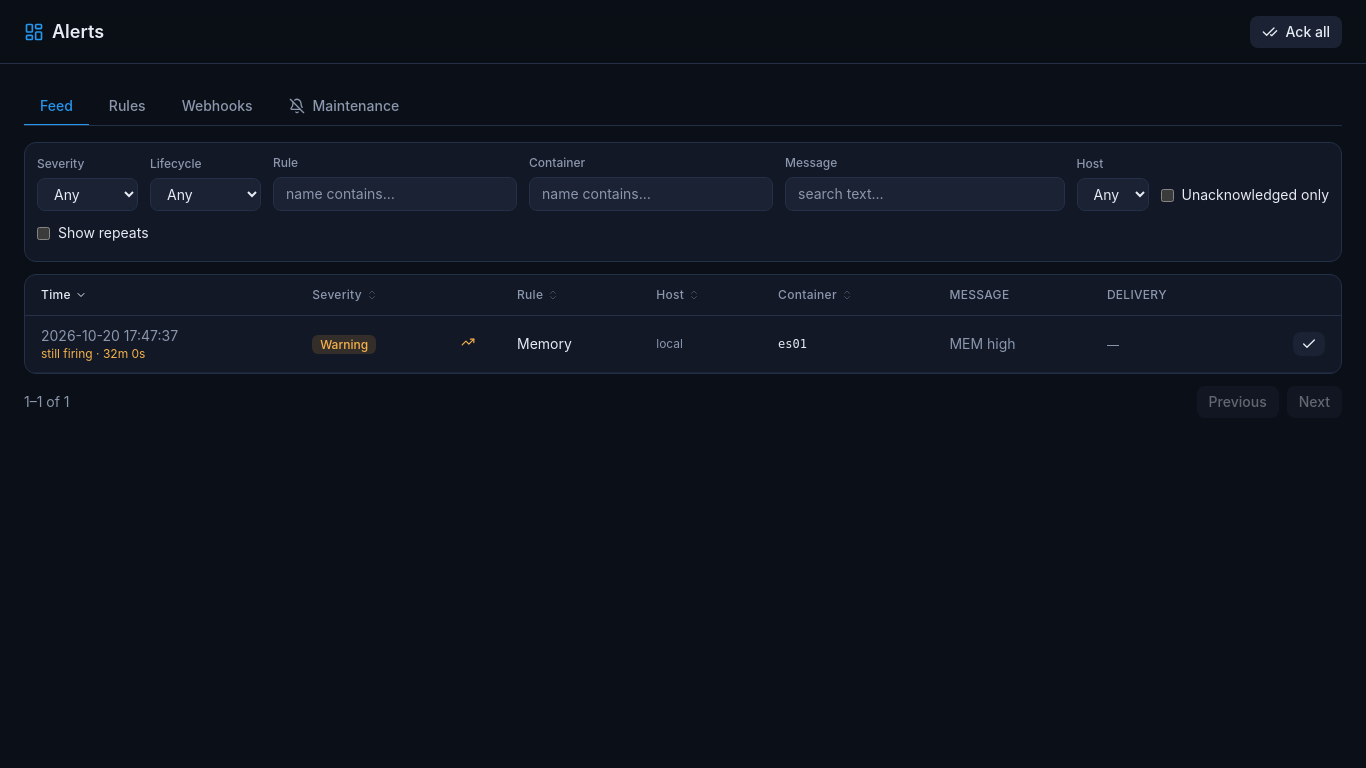
Test: Alerts feed: condition summary on the opening row › counts an escalated opener from the incident's start, not from the escalation
Step 1. Click the row that starts with "still firing ·" → [683, 344], box [25,316,1341,372]
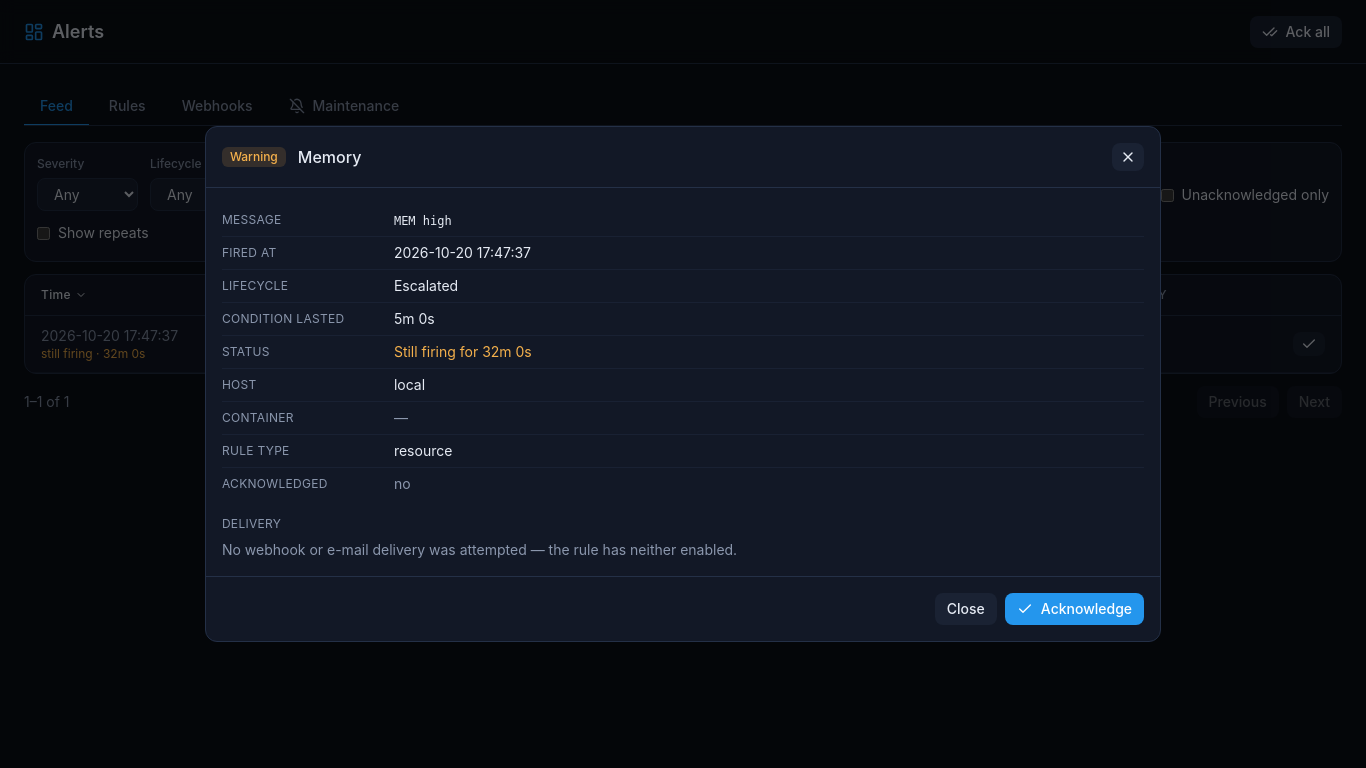
Result: the text "Still firing for 32m" is shown at [394,343,532,360]
